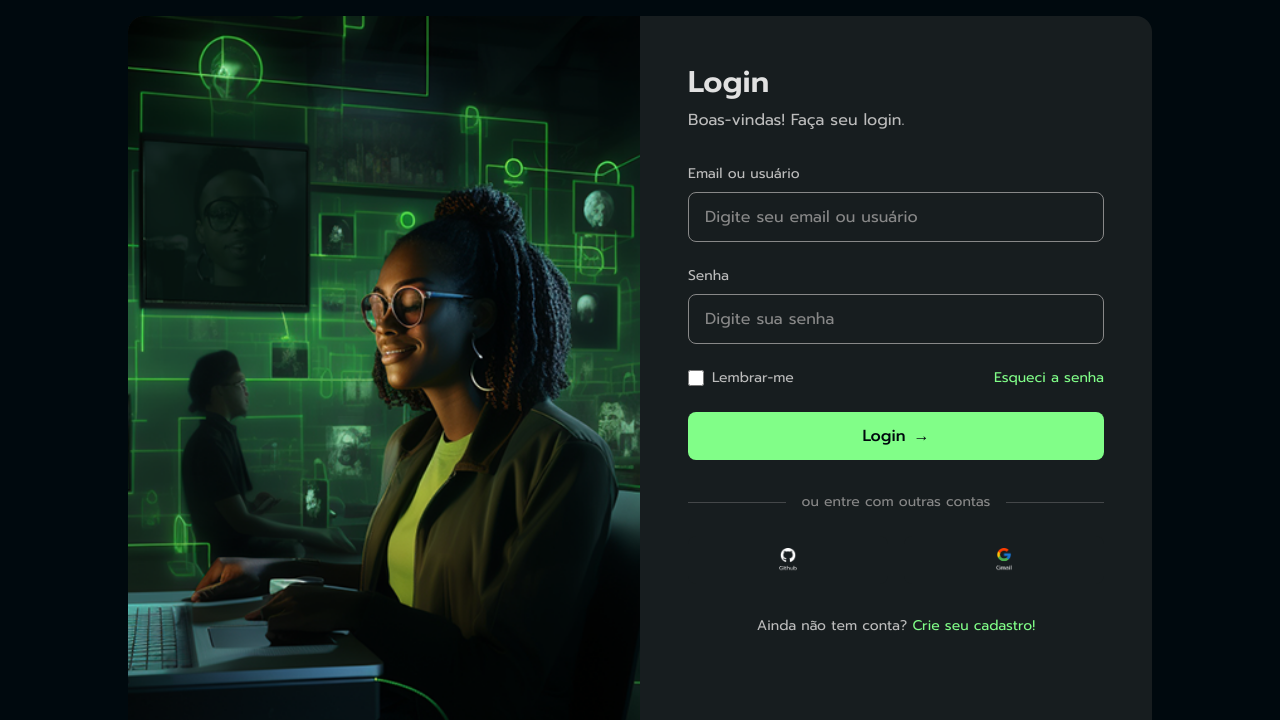
LoginPage › shows an error for invalid credentials
Type "ana@code.com" into the field labelled "Email ou usuário" at coordinates (896, 217), box 688,192 -> 1104,242
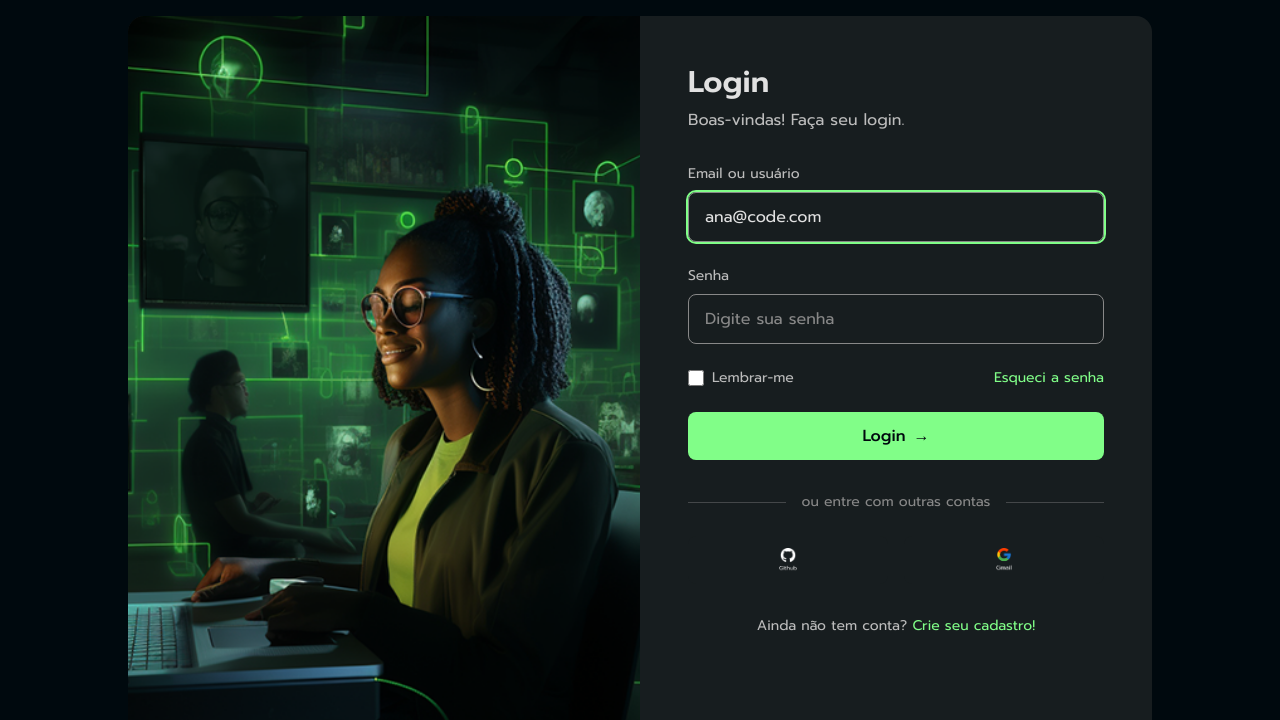
Type "segredo123" into the password field labelled "Senha" at coordinates (896, 319), box 688,294 -> 1104,344
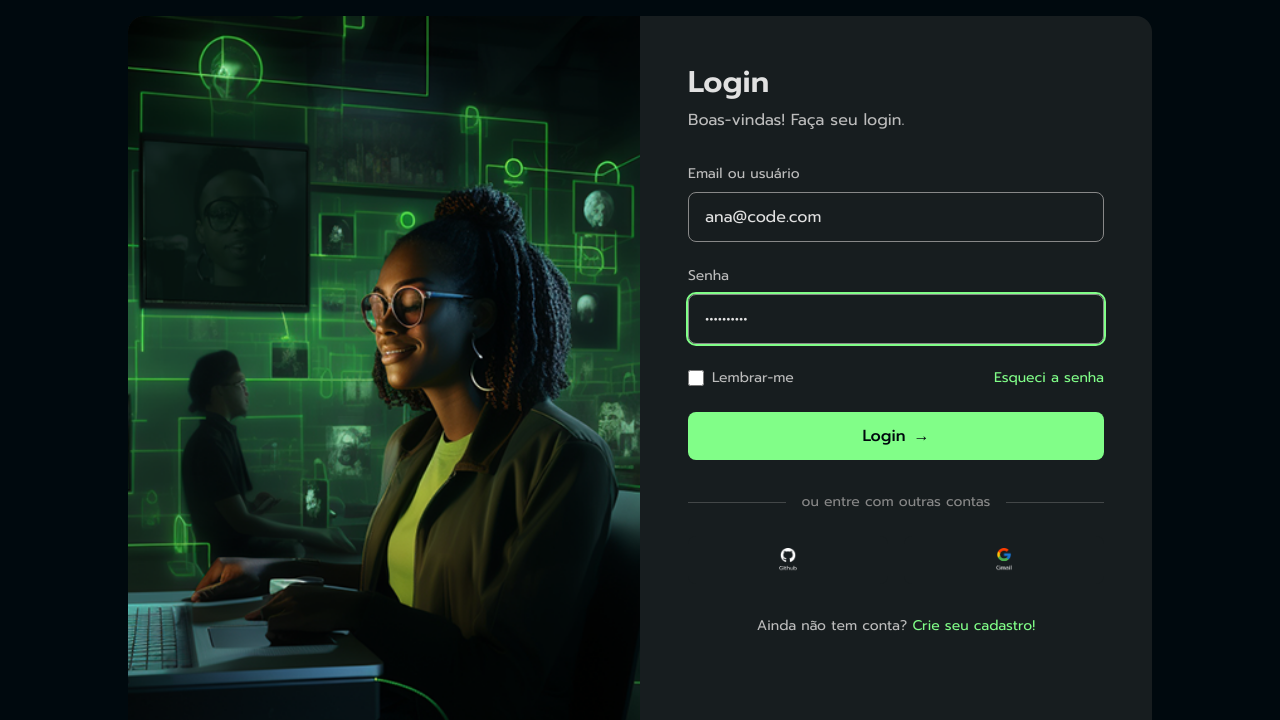
Click the checkbox labelled "Lembrar-me" at coordinates (696, 378), box 688,370 -> 704,386
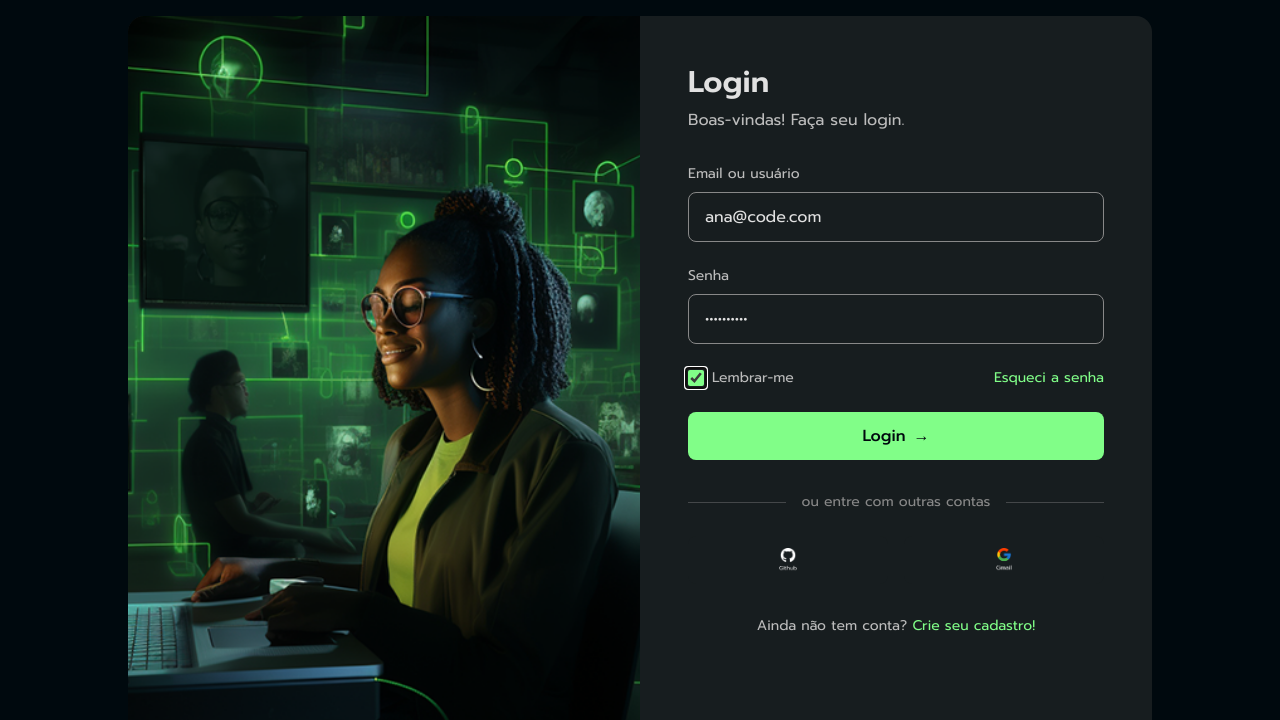
Click the button "Login →" at coordinates (896, 436), box 688,412 -> 1104,460
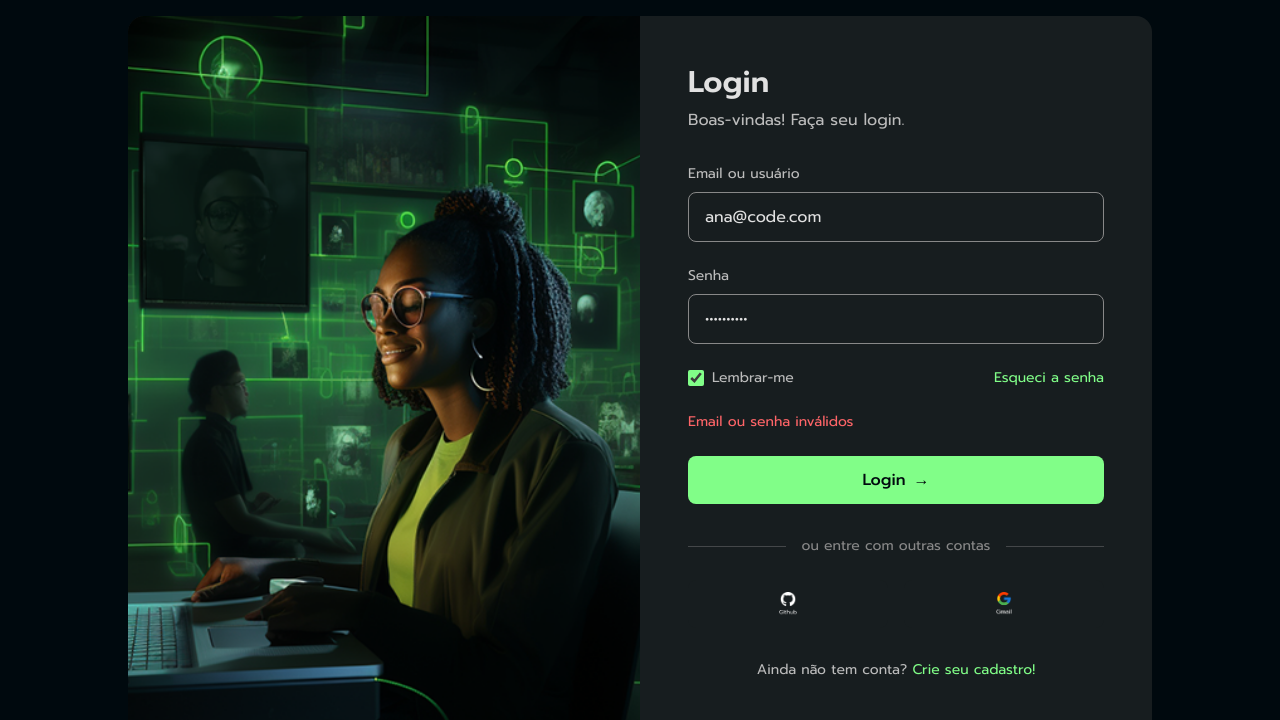
Expected: the button "Login →" is enabled, 688,456 -> 1104,504
Expected: the message reads "Email ou senha inválidos", 688,411 -> 853,432
